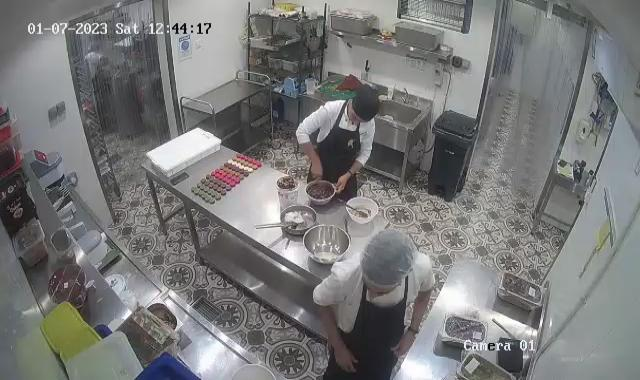hairnet: (358, 226, 420, 301)
no_hairnet: (346, 86, 382, 124)
